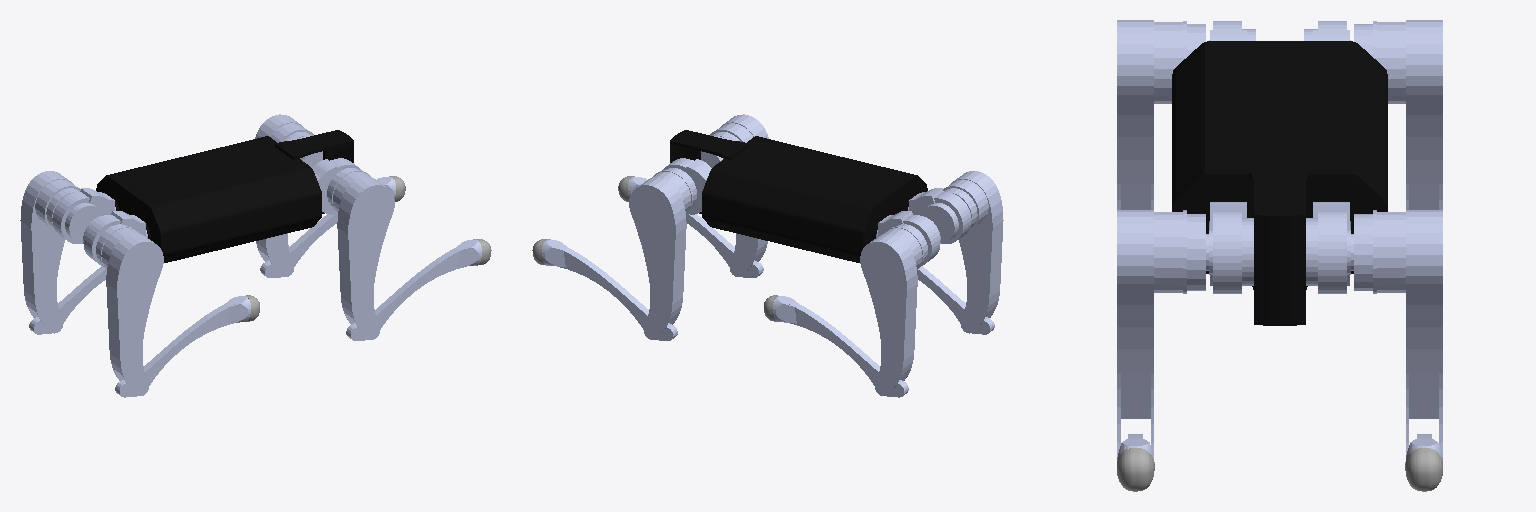
robot.urdf — dog:
<?xml version="1.0" encoding="utf-8"?>
<robot name="dog">
  <!-- ============ Materials ============ -->
  <material name="black"><color rgba="0.10196 0.10196 0.10196 1"/></material>
  <material name="silver"><color rgba="0.79216 0.81961 0.93333 1"/></material>
  <material name="gray"><color rgba="0.69804 0.69804 0.69804 1"/></material>
  <material name="white"><color rgba="1 1 1 1"/></material>

  <!-- ============ Base (主基座) ============ -->
  <link name="base">
    <inertial>
      <origin xyz="0.0063754 1.9125E-17 -5.2009E-18" rpy="0 0 0"/>
      <mass value="4.74"/>
      <inertia ixx="0.018108" ixy="-2.2930E-18" ixz="-2.1224E-18" 
               iyy="0.039024" iyz="9.6860E-19" izz="0.048926"/>
    </inertial>
    <visual>
      <origin xyz="0 0 0" rpy="0 0 0"/>
      <geometry>
        <mesh filename="../meshes/base.STL"/>
      </geometry>
      <material name="black"/>
    </visual>
    <collision>
      <origin xyz="0 0 0" rpy="0 0 0"/>
      <geometry>
        <box size="0.3062 0.0935 0.104"/>
      </geometry>
    </collision>
  </link>

  <!-- ==================== IMU Link ==================== -->
  <joint name="imu_joint" type="fixed" dont_collapse="true">
    <parent link="base"/>
    <child link="imu_link"/>
    <origin rpy="0 0 0" xyz="-0.08213 0 -0.033"/>
  </joint>
  <link name="imu_link">
    <inertial>
      <mass value="0.001"/>
      <origin rpy="0 0 0" xyz="0 0 0"/>
      <inertia ixx="0.0001" ixy="0" ixz="0" iyy="0.0001" iyz="0" izz="0.0001"/>
    </inertial>
    <visual>
      <origin rpy="0 0 0" xyz="0 0 0"/>
      <geometry>
        <box size="0.001 0.001 0.001"/>
      </geometry>
    </visual>
  </link>

  <!-- ==================== FL Leg ==================== -->
  <link name="FL_hip">
    <inertial>
      <origin xyz="-0.010697 -0.0033174 3.5324E-18" rpy="0 0 0"/>
      <mass value="0.33292"/>
      <inertia ixx="0.0001789" ixy="-1.0761E-05" ixz="-1.0819E-20" 
               iyy="0.0003417" iyz="1.4246E-20" izz="0.00025417"/>
    </inertial>
    <visual>
      <origin xyz="0 0 0" rpy="0 0 0"/>
      <geometry>
        <mesh filename="../meshes/FL_hip.STL"/>
      </geometry>
      <material name="silver"/>
    </visual>
    <collision>
      <origin xyz="0 0.045 0" rpy="1.5708 0 0"/>
      <geometry>
        <cylinder length="0.04" radius="0.04"/>
      </geometry>
    </collision>
  </link>
  
  <joint name="FL_hip_joint" type="revolute">
    <origin xyz="0.2145 0.05 0" rpy="0 0 0"/>
    <parent link="base"/>
    <child link="FL_hip"/>
    <axis xyz="-1 0 0"/>
    <limit lower="-1.05" upper="1.05" effort="17" velocity="30.1"/>
  </joint>

  <link name="FL_thigh">
    <inertial>
      <origin xyz="-0.0069171 -0.014196 -0.040905" rpy="0 0 0"/>
      <mass value="1.5467"/>
      <inertia ixx="0.0064369" ixy="-0.00015187" ixz="0.00066183" 
               iyy="0.0062486" iyz="-0.00089812" izz="0.0014778"/>
    </inertial>
    <visual>
      <origin xyz="0 0 0" rpy="0 0 0"/>
      <geometry>
        <mesh filename="../meshes/FL_thigh.STL"/>
      </geometry>
      <material name="silver"/>
    </visual>
    <collision>
      <origin xyz="0 0 -0.075" rpy="0 1.5708 0"/>
      <geometry>
        <box size="0.15 0.0245 0.034"/>
      </geometry>
    </collision>
  </link>
  
  <joint name="FL_thigh_joint" type="revolute">
    <origin xyz="0 0.088 0" rpy="0 0 0"/>
    <parent link="FL_hip"/>
    <child link="FL_thigh"/>
    <axis xyz="0 -1 0"/>
    <limit lower="-1.57" upper="3.49" effort="17" velocity="30.1"/>
  </joint>

  <link name="FL_calf">
    <inertial>
      <origin xyz="0.012446 6.1697E-10 -0.11689" rpy="0 0 0"/>
      <mass value="0.1266"/>
      <inertia ixx="0.00089879" ixy="-1.6714E-11" ixz="-3.7677E-05" 
               iyy="0.0009089" iyz="4.713E-12" izz="1.8028E-05"/>
    </inertial>
    <visual>
      <origin xyz="0 0 0" rpy="0 0 0"/>
      <geometry>
        <mesh filename="../meshes/FL_calf.STL"/>
      </geometry>
      <material name="silver"/>
    </visual>
    <collision>
      <origin xyz="0 0 -0.07" rpy="0 1.5708 0"/>
      <geometry>
        <box size="0.14 0.016 0.016"/>
      </geometry>
    </collision>
  </link>
  
  <joint name="FL_calf_joint" type="revolute">
    <origin xyz="0 0 -0.22" rpy="0 0 0"/>
    <parent link="FL_thigh"/>
    <child link="FL_calf"/>
    <axis xyz="0 1 0"/>
    <limit lower="-2.72" upper="-1.2" effort="34" velocity="20.07"/>
  </joint>

  <link name="FL_foot">
    <inertial>
      <origin xyz="-1.5361E-11 9.9171E-11 9.5637E-11" rpy="0 0 0"/>
      <mass value="0.03385"/>
      <inertia ixx="4.3616E-06" ixy="1.5524E-12" ixz="-9.2947E-07" 
               iyy="4.8375E-06" iyz="-7.5217E-13" izz="5.3891E-06"/>
    </inertial>
    <visual>
      <origin xyz="0 0 0" rpy="0 0 0"/>
      <geometry>
        <mesh filename="../meshes/FL_foot.STL"/>
      </geometry>
      <material name="gray"/>
    </visual>
    <collision>
      <origin xyz="0 0 0" rpy="0 0 0"/>
      <geometry>
        <sphere radius="0.02"/>
      </geometry>
    </collision>
  </link>
  
  <joint name="FL_foot_joint" type="fixed" dont_collapse="true">
    <origin xyz="0 0 -0.22849" rpy="0 0 0"/>
    <parent link="FL_calf"/>
    <child link="FL_foot"/>
    <axis xyz="0 0 0"/>
  </joint>

  <!-- ==================== FR Leg ==================== -->
  <link name="FR_hip">
    <inertial>
      <origin xyz="-0.010697 0.0033174 -5.3064E-18" rpy="0 0 0"/>
      <mass value="0.33292"/>
      <inertia ixx="0.0001789" ixy="1.0761E-05" ixz="2.9382E-20" 
               iyy="0.0003417" iyz="1.7422E-20" izz="0.00025417"/>
    </inertial>
    <visual>
      <origin xyz="0 0 0" rpy="0 0 0"/>
      <geometry>
        <mesh filename="../meshes/FR_hip.STL"/>
      </geometry>
      <material name="silver"/>
    </visual>
    <collision>
      <origin xyz="0 -0.045 0" rpy="1.5708 0 0"/>
      <geometry>
        <cylinder length="0.04" radius="0.04"/>
      </geometry>
    </collision>
  </link>
  
  <joint name="FR_hip_joint" type="revolute">
    <origin xyz="0.2145 -0.05 0" rpy="0 0 0"/>
    <parent link="base"/>
    <child link="FR_hip"/>
    <axis xyz="-1 0 0"/>
    <limit lower="-1.05" upper="1.05" effort="17" velocity="30.1"/>
  </joint>

  <link name="FR_thigh">
    <inertial>
      <origin xyz="-0.0069171 0.014196 -0.040905" rpy="0 0 0"/>
      <mass value="1.5467"/>
      <inertia ixx="0.0064369" ixy="0.00015187" ixz="0.00066183" 
               iyy="0.0062486" iyz="0.00089812" izz="0.0014778"/>
    </inertial>
    <visual>
      <origin xyz="0 0 0" rpy="0 0 0"/>
      <geometry>
        <mesh filename="../meshes/FR_thigh.STL"/>
      </geometry>
      <material name="silver"/>
    </visual>
    <collision>
      <origin xyz="0 0 -0.075" rpy="0 1.5708 0"/>
      <geometry>
        <box size="0.15 0.0245 0.034"/>
      </geometry>
    </collision>
  </link>
  
  <joint name="FR_thigh_joint" type="revolute">
    <origin xyz="0 -0.088 0" rpy="0 0 0"/>
    <parent link="FR_hip"/>
    <child link="FR_thigh"/>
    <axis xyz="0 1 0"/>
    <limit lower="-1.57" upper="3.49" effort="17" velocity="30.1"/>
  </joint>

  <link name="FR_calf">
    <inertial>
      <origin xyz="0.012446 6.1697E-10 -0.11689" rpy="0 0 0"/>
      <mass value="0.1266"/>
      <inertia ixx="0.00089879" ixy="-1.6714E-11" ixz="-3.7677E-05" 
               iyy="0.0009089" iyz="4.713E-12" izz="1.8028E-05"/>
    </inertial>
    <visual>
      <origin xyz="0 0 0" rpy="0 0 0"/>
      <geometry>
        <mesh filename="../meshes/FR_calf.STL"/>
      </geometry>
      <material name="silver"/>
    </visual>
    <collision>
      <origin xyz="0 0 -0.07" rpy="0 1.5708 0"/>
      <geometry>
        <box size="0.14 0.016 0.016"/>
      </geometry>
    </collision>
  </link>
  
  <joint name="FR_calf_joint" type="revolute">
    <origin xyz="0 0 -0.22" rpy="0 0 0"/>
    <parent link="FR_thigh"/>
    <child link="FR_calf"/>
    <axis xyz="0 -1 0"/>
    <limit lower="1.2" upper="2.72" effort="34" velocity="20.07"/>
  </joint>

  <link name="FR_foot">
    <inertial>
      <origin xyz="-6.8027E-11 1.2695E-10 2.7911E-11" rpy="0 0 0"/>
      <mass value="0.03385"/>
      <inertia ixx="4.3616E-06" ixy="1.5049E-12" ixz="-9.2947E-07" 
               iyy="4.8375E-06" iyz="-7.2331E-13" izz="5.3891E-06"/>
    </inertial>
    <visual>
      <origin xyz="0 0 0" rpy="0 0 0"/>
      <geometry>
        <mesh filename="../meshes/FR_foot.STL"/>
      </geometry>
      <material name="gray"/>
    </visual>
    <collision>
      <origin xyz="0 0 0" rpy="0 0 0"/>
      <geometry>
        <sphere radius="0.02"/>
      </geometry>
    </collision>
  </link>
  
  <joint name="FR_foot_joint" type="fixed" dont_collapse="true">
    <origin xyz="0 0 -0.22849" rpy="0 0 0"/>
    <parent link="FR_calf"/>
    <child link="FR_foot"/>
    <axis xyz="0 0 0"/>
  </joint>

  <!-- ==================== RR Leg ==================== -->
  <link name="RR_hip">
    <inertial>
      <origin xyz="0.010697 0.0033174 6.5589E-19" rpy="0 0 0"/>
      <mass value="0.33292"/>
      <inertia ixx="0.0001789" ixy="-1.0761E-05" ixz="3.9204E-21" 
               iyy="0.0003417" iyz="-7.4276E-21" izz="0.00025417"/>
    </inertial>
    <visual>
      <origin xyz="0 0 0" rpy="0 0 0"/>
      <geometry>
        <mesh filename="../meshes/RR_hip.STL"/>
      </geometry>
      <material name="silver"/>
    </visual>
    <collision>
      <origin xyz="0 -0.045 0" rpy="1.5708 0 0"/>
      <geometry>
        <cylinder length="0.04" radius="0.04"/>
      </geometry>
    </collision>
  </link>
  
  <joint name="RR_hip_joint" type="revolute">
    <origin xyz="-0.2145 -0.05 0" rpy="0 0 0"/>
    <parent link="base"/>
    <child link="RR_hip"/>
    <axis xyz="1 0 0"/>
    <limit lower="-1.05" upper="1.05" effort="17" velocity="30.1"/>
  </joint>

  <link name="RR_thigh">
    <inertial>
      <origin xyz="-0.0069171 0.014196 -0.040905" rpy="0 0 0"/>
      <mass value="1.5467"/>
      <inertia ixx="0.0064369" ixy="0.00015187" ixz="0.00066183" 
               iyy="0.0062486" iyz="0.00089812" izz="0.0014778"/>
    </inertial>
    <visual>
      <origin xyz="0 0 0" rpy="0 0 0"/>
      <geometry>
        <mesh filename="../meshes/RR_thigh.STL"/>
      </geometry>
      <material name="silver"/>
    </visual>
    <collision>
      <origin xyz="0 0 -0.075" rpy="0 1.5708 0"/>
      <geometry>
        <box size="0.15 0.0245 0.034"/>
      </geometry>
    </collision>
  </link>
  
  <joint name="RR_thigh_joint" type="revolute">
    <origin xyz="0 -0.088 0" rpy="0 0 0"/>
    <parent link="RR_hip"/>
    <child link="RR_thigh"/>
    <axis xyz="0 1 0"/>
    <limit lower="-1.57" upper="3.49" effort="17" velocity="30.1"/>
  </joint>

  <link name="RR_calf">
    <inertial>
      <origin xyz="0.012446 6.1697E-10 -0.11689" rpy="0 0 0"/>
      <mass value="0.1266"/>
      <inertia ixx="0.00089879" ixy="-1.6714E-11" ixz="-3.7677E-05" 
               iyy="0.0009089" iyz="4.713E-12" izz="1.8028E-05"/>
    </inertial>
    <visual>
      <origin xyz="0 0 0" rpy="0 0 0"/>
      <geometry>
        <mesh filename="../meshes/RR_calf.STL"/>
      </geometry>
      <material name="silver"/>
    </visual>
    <collision>
      <origin xyz="0 0 -0.07" rpy="0 1.5708 0"/>
      <geometry>
        <box size="0.14 0.016 0.016"/>
      </geometry>
    </collision>
  </link>
  
  <joint name="RR_calf_joint" type="revolute">
    <origin xyz="0 0 -0.22" rpy="0 0 0"/>
    <parent link="RR_thigh"/>
    <child link="RR_calf"/>
    <axis xyz="0 -1 0"/>
    <limit lower="1.2" upper="2.72" effort="34" velocity="20.07"/>
  </joint>

  <link name="RR_foot">
    <inertial>
      <origin xyz="-6.8027E-11 1.2695E-10 2.7911E-11" rpy="0 0 0"/>
      <mass value="0.03385"/>
      <inertia ixx="4.3616E-06" ixy="1.5049E-12" ixz="-9.2947E-07" 
               iyy="4.8375E-06" iyz="-7.2331E-13" izz="5.3891E-06"/>
    </inertial>
    <visual>
      <origin xyz="0 0 0" rpy="0 0 0"/>
      <geometry>
        <mesh filename="../meshes/RR_foot.STL"/>
      </geometry>
      <material name="gray"/>
    </visual>
    <collision>
      <origin xyz="0 0 0" rpy="0 0 0"/>
      <geometry>
        <sphere radius="0.02"/>
      </geometry>
    </collision>
  </link>
  
  <joint name="RR_foot_joint" type="fixed" dont_collapse="true">
    <origin xyz="0 0 -0.22849" rpy="0 0 0"/>
    <parent link="RR_calf"/>
    <child link="RR_foot"/>
    <axis xyz="0 0 0"/>
  </joint>

  <!-- ==================== RL Leg ==================== -->
  <link name="RL_hip">
    <inertial>
      <origin xyz="0.010697 -0.0033174 3.7675E-19" rpy="0 0 0"/>
      <mass value="0.33292"/>
      <inertia ixx="0.0001789" ixy="1.0761E-05" ixz="-6.6841E-21" 
               iyy="0.0003417" iyz="-2.6358E-21" izz="0.00025417"/>
    </inertial>
    <visual>
      <origin xyz="0 0 0" rpy="0 0 0"/>
      <geometry>
        <mesh filename="../meshes/RL_hip.STL"/>
      </geometry>
      <material name="silver"/>
    </visual>
    <collision>
      <origin xyz="0 0.045 0" rpy="1.5708 0 0"/>
      <geometry>
        <cylinder length="0.04" radius="0.04"/>
      </geometry>
    </collision>
  </link>
  
  <joint name="RL_hip_joint" type="revolute">
    <origin xyz="-0.2145 0.05 0" rpy="0 0 0"/>
    <parent link="base"/>
    <child link="RL_hip"/>
    <axis xyz="1 0 0"/>
    <limit lower="-1.05" upper="1.05" effort="17" velocity="30.1"/>
  </joint>

  <link name="RL_thigh">
    <inertial>
      <origin xyz="-0.0069171 -0.014196 -0.040905" rpy="0 0 0"/>
      <mass value="1.5467"/>
      <inertia ixx="0.0064369" ixy="-0.00015187" ixz="0.00066183" 
               iyy="0.0062486" iyz="-0.00089812" izz="0.0014778"/>
    </inertial>
    <visual>
      <origin xyz="0 0 0" rpy="0 0 0"/>
      <geometry>
        <mesh filename="../meshes/RL_thigh.STL"/>
      </geometry>
      <material name="silver"/>
    </visual>
    <collision>
      <origin xyz="0 0 -0.075" rpy="0 1.5708 0"/>
      <geometry>
        <box size="0.15 0.0245 0.034"/>
      </geometry>
    </collision>
  </link>
  
  <joint name="RL_thigh_joint" type="revolute">
    <origin xyz="0 0.088 0" rpy="0 0 0"/>
    <parent link="RL_hip"/>
    <child link="RL_thigh"/>
    <axis xyz="0 -1 0"/>
    <limit lower="-1.57" upper="3.49" effort="17" velocity="30.1"/>
  </joint>

  <link name="RL_calf">
    <inertial>
      <origin xyz="0.012446 6.1697E-10 -0.11689" rpy="0 0 0"/>
      <mass value="0.1266"/>
      <inertia ixx="0.00089879" ixy="-1.6714E-11" ixz="-3.7677E-05" 
               iyy="0.0009089" iyz="4.713E-12" izz="1.8028E-05"/>
    </inertial>
    <visual>
      <origin xyz="0 0 0" rpy="0 0 0"/>
      <geometry>
        <mesh filename="../meshes/RL_calf.STL"/>
      </geometry>
      <material name="silver"/>
    </visual>
    <collision>
      <origin xyz="0 0 -0.07" rpy="0 1.5708 0"/>
      <geometry>
        <box size="0.14 0.016 0.016"/>
      </geometry>
    </collision>
  </link>
  
  <joint name="RL_calf_joint" type="revolute">
    <origin xyz="0 0 -0.22" rpy="0 0 0"/>
    <parent link="RL_thigh"/>
    <child link="RL_calf"/>
    <axis xyz="0 1 0"/>
    <limit lower="-2.72" upper="-1.2" effort="34" velocity="20.07"/>
  </joint>

  <link name="RL_foot">
    <inertial>
      <origin xyz="-5.3573E-06 8.9644E-11 0" rpy="0 0 0"/>
      <mass value="0.03385"/>
      <inertia ixx="4.3616E-06" ixy="1.5512E-12" ixz="-9.2947E-07" 
               iyy="4.8375E-06" iyz="-7.5287E-13" izz="5.3891E-06"/>
    </inertial>
    <visual>
      <origin xyz="0 0 0" rpy="0 0 0"/>
      <geometry>
        <mesh filename="../meshes/RR_foot.STL"/>
      </geometry>
      <material name="gray"/>
    </visual>
    <collision>
      <origin xyz="0 0 0" rpy="0 0 0"/>
      <geometry>
        <sphere radius="0.02"/>
      </geometry>
    </collision>
  </link>
  
  <joint name="RL_foot_joint" type="fixed" dont_collapse="true">
    <origin xyz="0 0 -0.22849" rpy="0 0 0"/>
    <parent link="RL_calf"/>
    <child link="RL_foot"/>
    <axis xyz="0 0 0"/>
  </joint>

</robot>

--- Render facts (derived) ---
Views: 3 orthographic renders of the robot side by side, from view 1: azimuth 30°, elevation 25°; view 2: azimuth 150°, elevation 25°; view 3: azimuth 270°, elevation 25°.
Robot: dog — 18 links, 17 joints (12 revolute, 5 fixed); root link base; default pose: all joints at 0 but 4 set to mid-range because 0 is outside their limits (FL_calf_joint = -1.96, FR_calf_joint = 1.96, RR_calf_joint = 1.96, RL_calf_joint = -1.96).
Links seen in each view (by area): view 1: base, RR_thigh, FR_thigh, RL_thigh, FR_calf, RR_calf, RL_hip, FL_thigh, FL_calf, RR_hip, RL_calf, FR_hip; view 2: base, RL_thigh, FL_thigh, RR_thigh, FL_calf, RL_calf, RR_hip, FR_thigh, FR_calf, RL_hip, RR_calf, FL_hip; view 3: base, FL_thigh, FR_thigh, RR_thigh, RL_thigh, FL_hip, FR_hip, FL_foot, FR_foot, RR_hip, RL_hip.
Link boxes in pixels (x1,y1,x2,y2): base: [96, 130, 353, 262]; RR_thigh: [96, 224, 163, 395]; FR_thigh: [327, 168, 394, 339]; RL_thigh: [20, 171, 80, 333]; FR_calf: [346, 239, 481, 340]; RR_calf: [115, 296, 250, 397]; RL_hip: [52, 188, 115, 243]; FL_thigh: [255, 114, 313, 276]; FL_calf: [260, 176, 395, 277]; RR_hip: [83, 211, 147, 265]; RL_calf: [29, 266, 106, 334]; FR_hip: [312, 158, 361, 214]; base: [670, 130, 927, 262]; RL_thigh: [860, 224, 927, 395]; FL_thigh: [629, 168, 696, 339]; RR_thigh: [943, 171, 1003, 333]; FL_calf: [542, 239, 677, 340]; RL_calf: [773, 296, 908, 397]; RR_hip: [908, 188, 971, 243]; FR_thigh: [710, 114, 768, 276]; FR_calf: [628, 176, 763, 277]; RL_hip: [876, 211, 940, 265]; RR_calf: [917, 266, 994, 334]; FL_hip: [662, 158, 711, 214]; base: [1172, 41, 1387, 325]; FL_thigh: [1351, 210, 1442, 456]; FR_thigh: [1117, 210, 1208, 456]; RR_thigh: [1117, 20, 1205, 209]; RL_thigh: [1354, 20, 1442, 209]; FL_hip: [1306, 202, 1350, 293]; FR_hip: [1209, 202, 1253, 293]; FL_foot: [1405, 448, 1442, 491]; FR_foot: [1117, 448, 1154, 491]; RR_hip: [1209, 21, 1255, 40]; RL_hip: [1304, 21, 1350, 40].
Size in the robot's own frame: 0.7017 by 0.312 by 0.2948 metres.
17 mesh visuals loaded from 16 distinct referenced files (16 binary STL).
